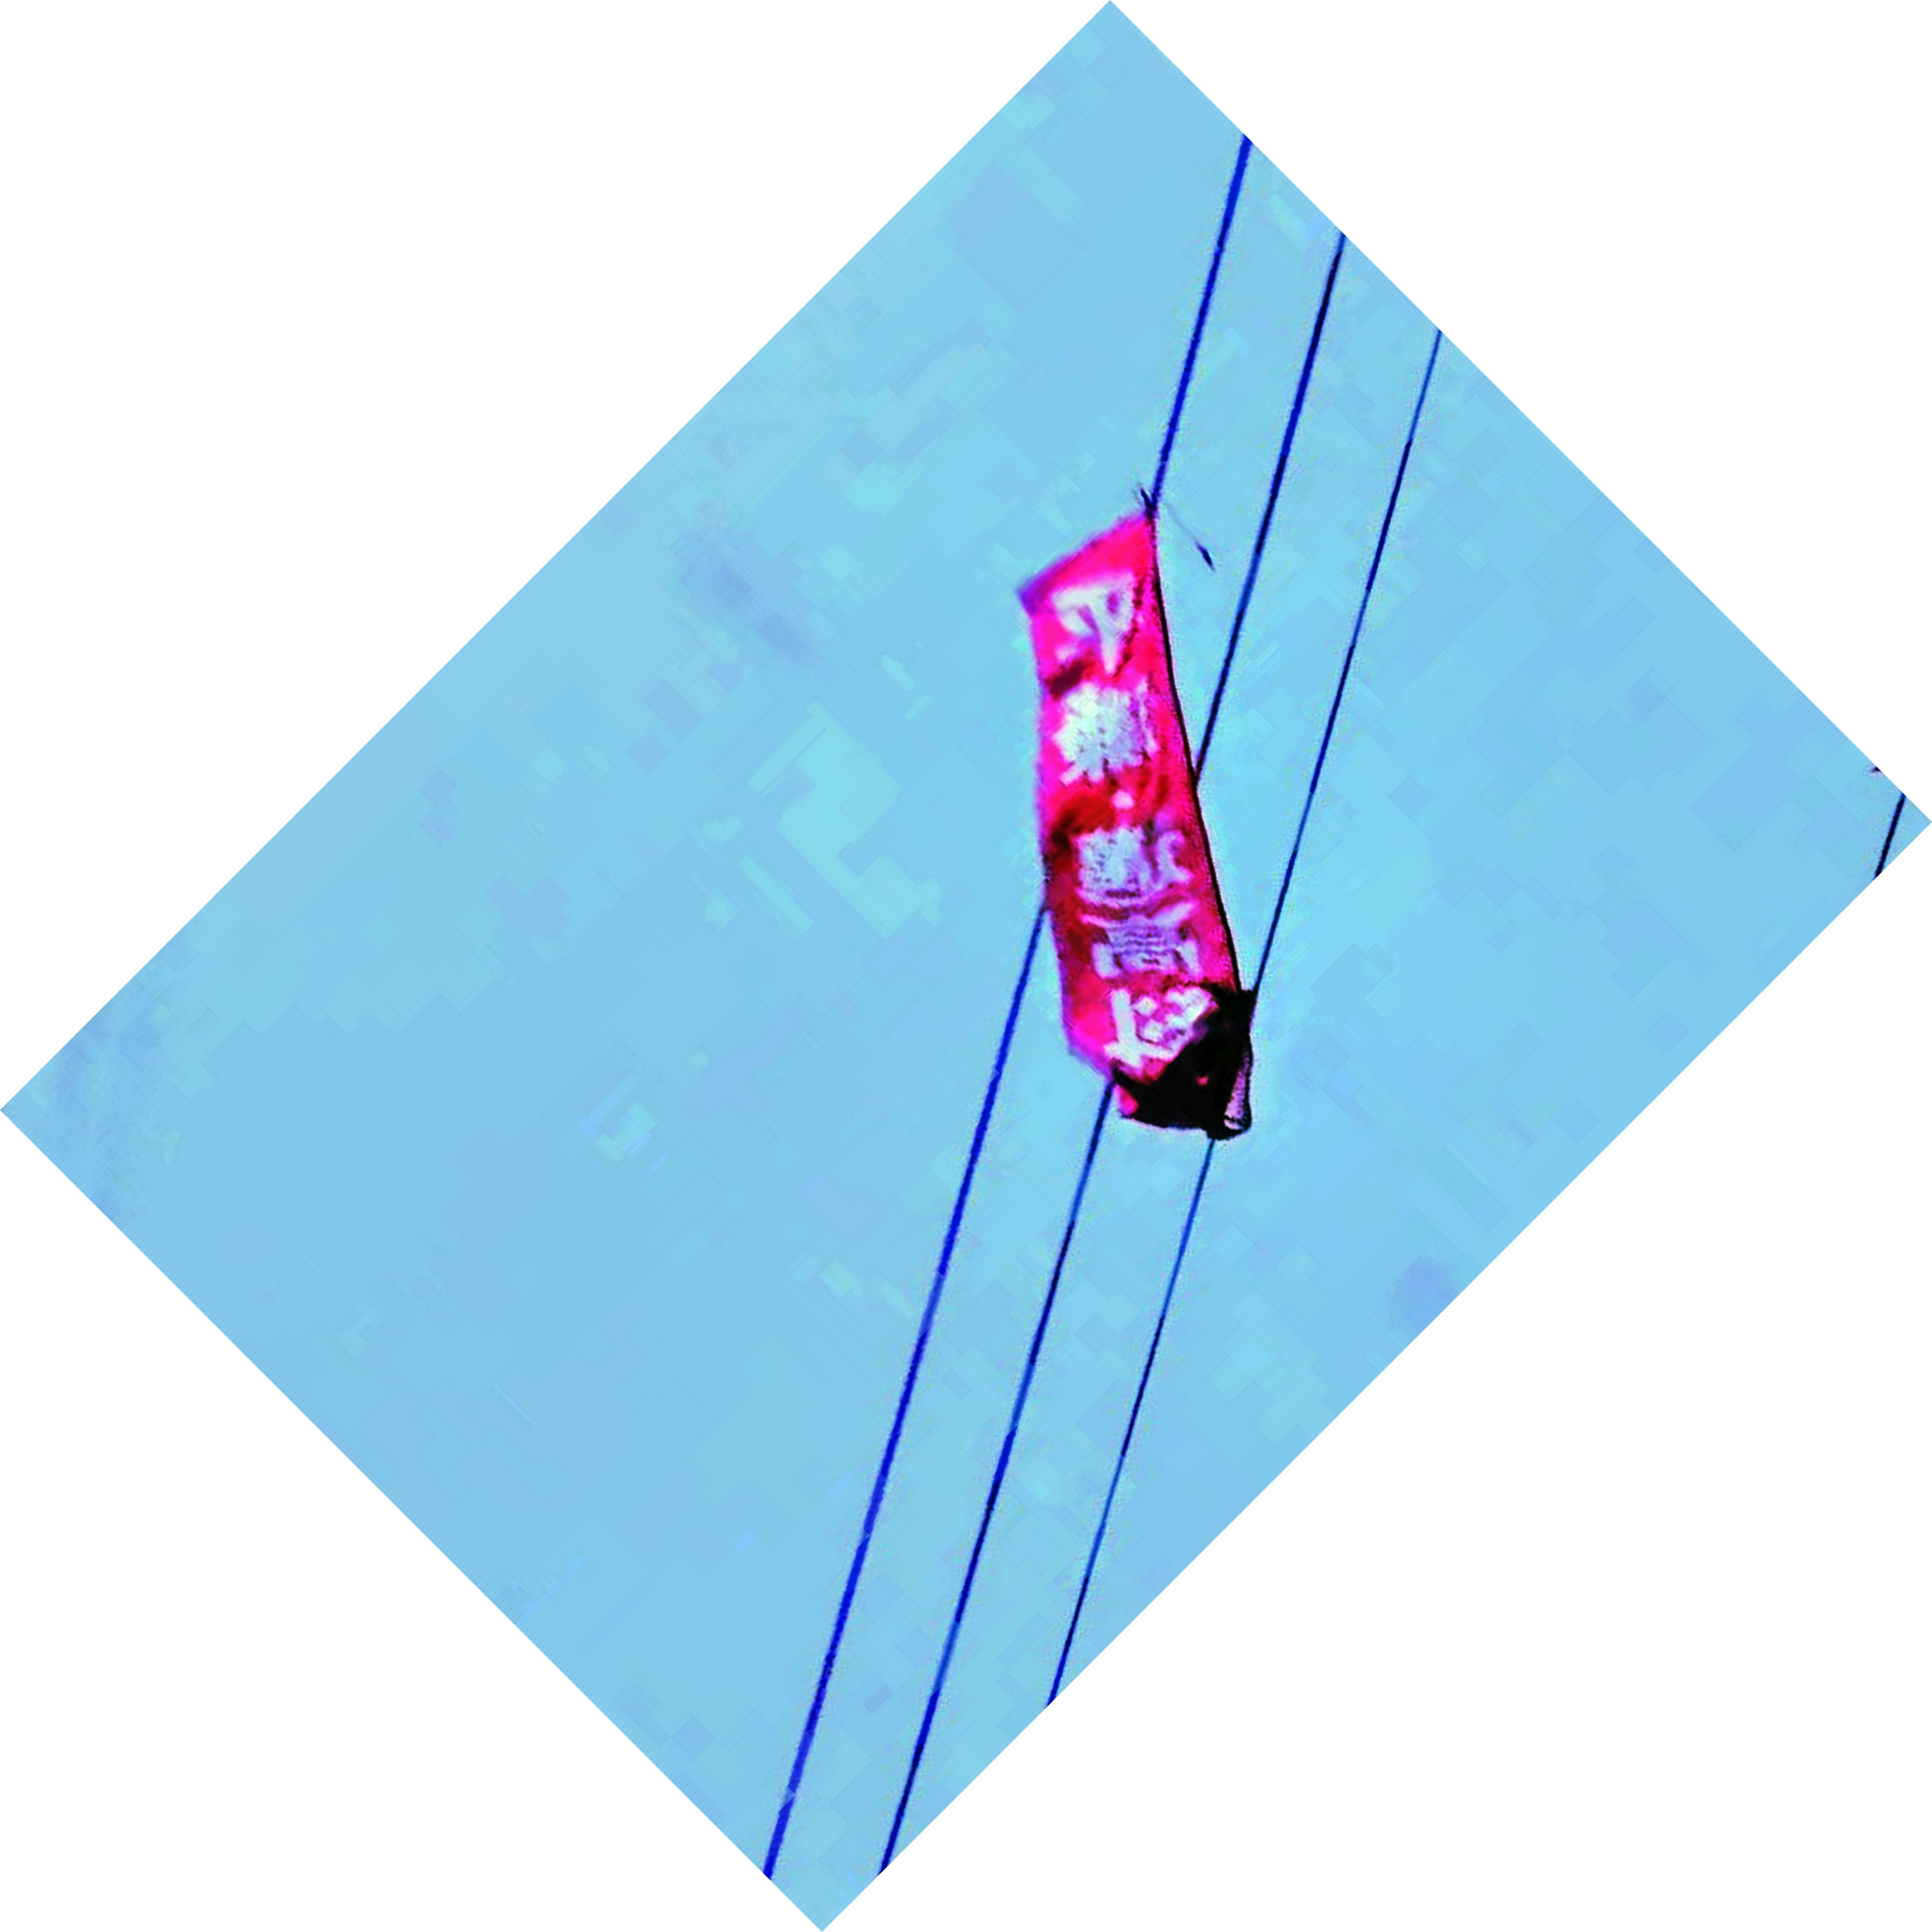wire foreign body: (984, 474, 1325, 1192)
